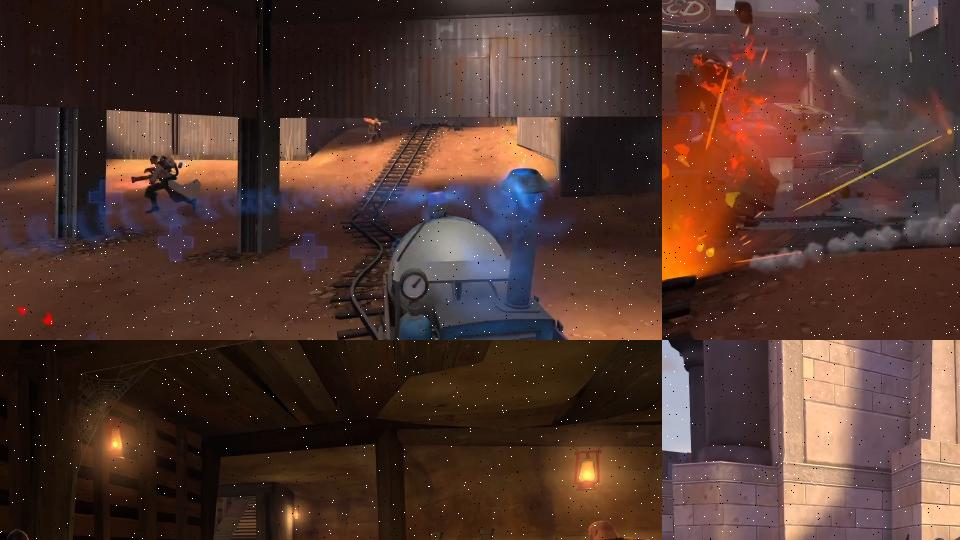Enemy: (131, 153, 202, 214)
